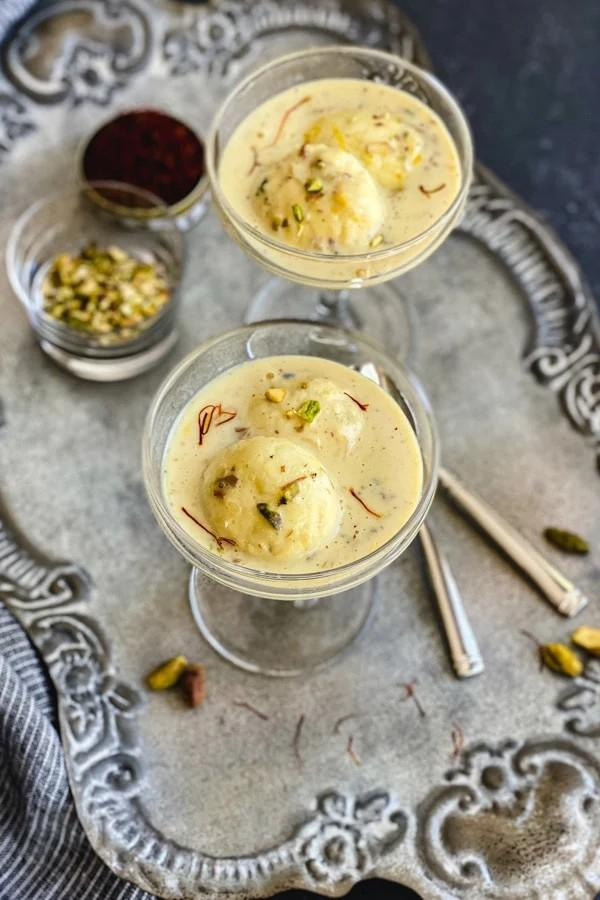RasMalai: (161, 350, 423, 561), (229, 70, 458, 268)
